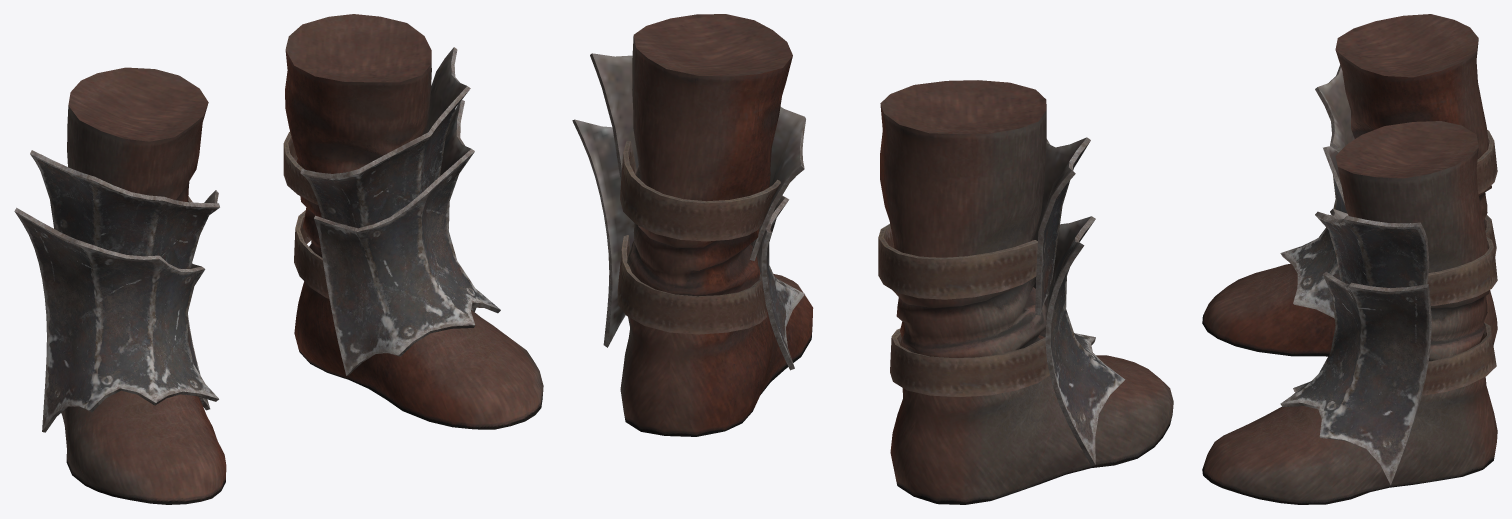
File: sk_dg_uruk_boots_med_b.fbx
3 renders of one model, left to right at view 1: azimuth 30°, elevation 25°; view 2: azimuth 150°, elevation 25°; view 3: azimuth 270°, elevation 25°, orthographic. The views are drawn at different scales.
Parts seen in each view (by area): view 1: sk_dg_uruk_boots_med_b.0, sk_dg_uruk_boots_med_b.1; view 2: sk_dg_uruk_boots_med_b.0, sk_dg_uruk_boots_med_b.1; view 3: sk_dg_uruk_boots_med_b.0, sk_dg_uruk_boots_med_b.1.
Boxes of the visible parts, bbox=[...] form: sk_dg_uruk_boots_med_b.0: bbox=[14, 14, 543, 504]; sk_dg_uruk_boots_med_b.1: bbox=[188, 132, 329, 298]; sk_dg_uruk_boots_med_b.0: bbox=[572, 14, 1173, 504]; sk_dg_uruk_boots_med_b.1: bbox=[617, 141, 1049, 396]; sk_dg_uruk_boots_med_b.0: bbox=[1202, 14, 1497, 504]; sk_dg_uruk_boots_med_b.1: bbox=[1422, 129, 1497, 395].
Bounding box in the file's own units: 0.572 × 0.3359 × 0.389.
2 materials, 2 textured.
